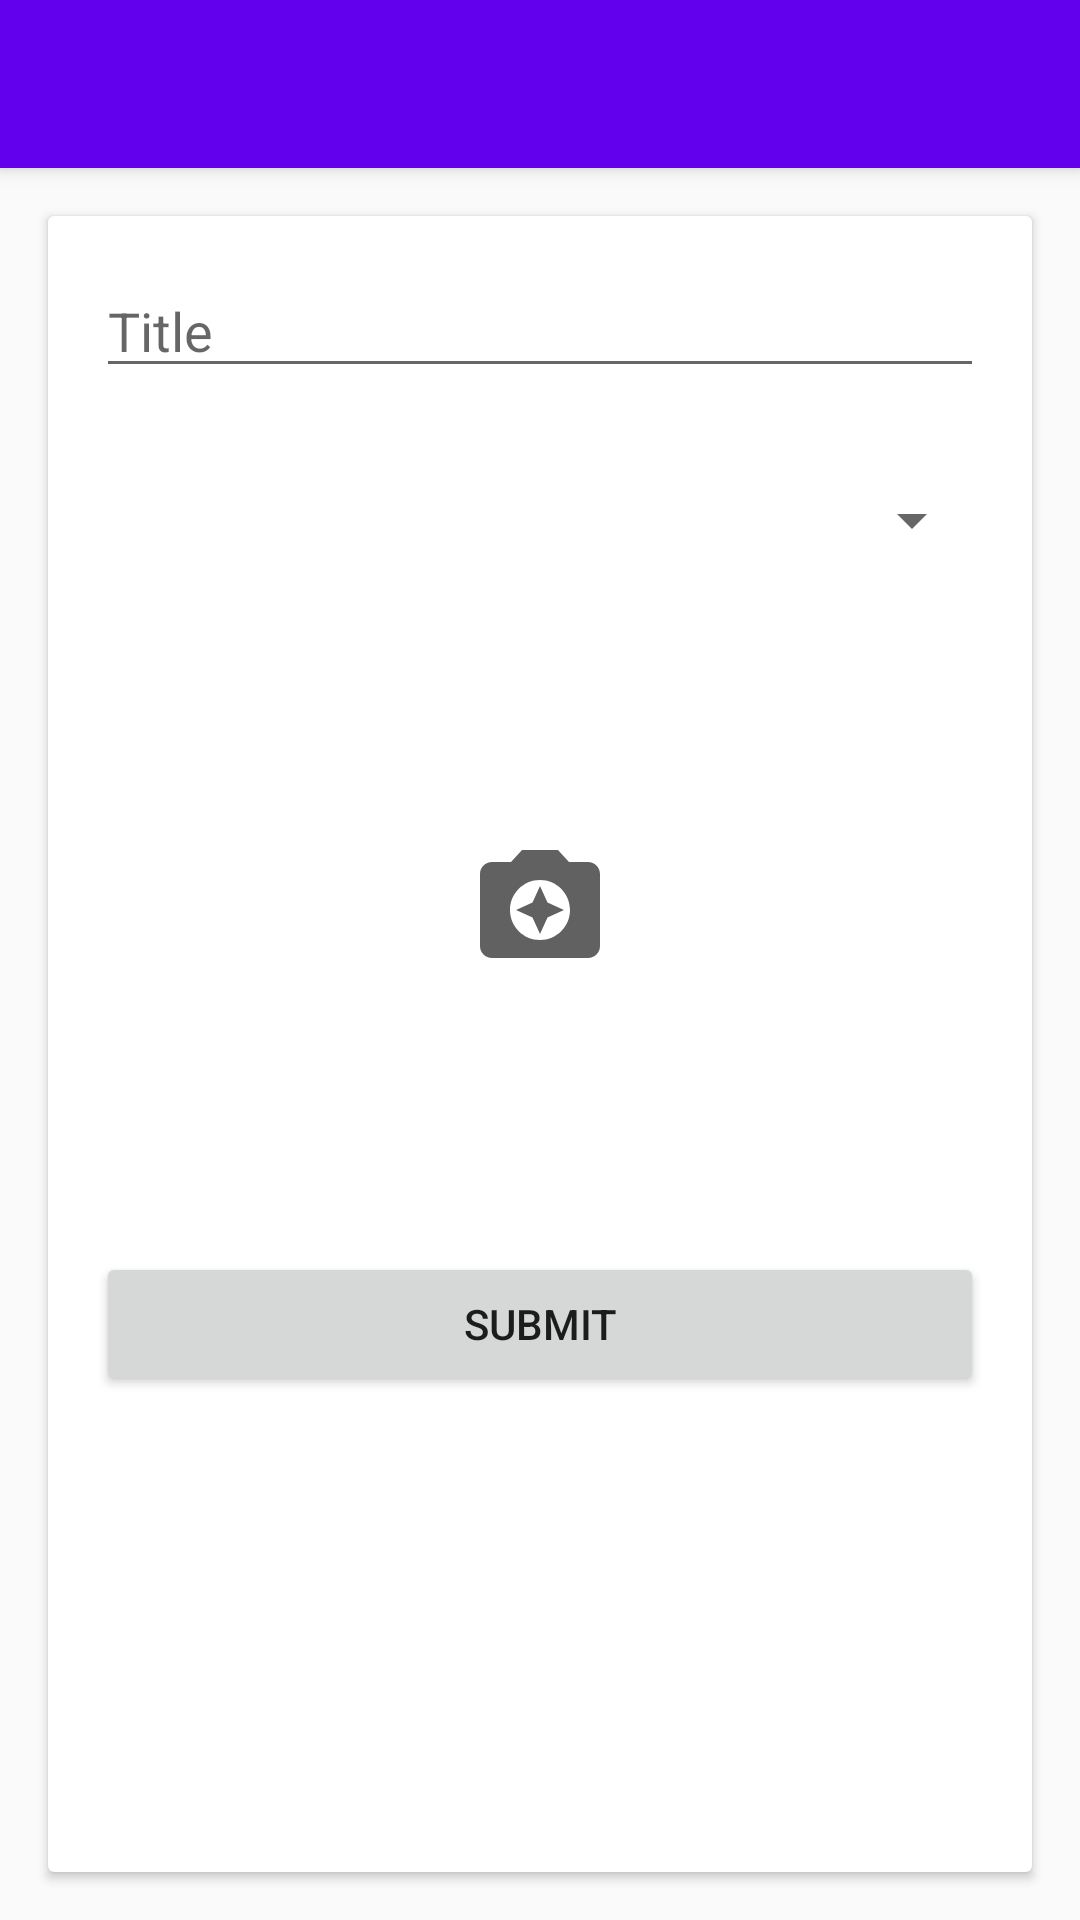

Named icons in this screenshot (1080 × 1920) and their centers, (x=x, y=y):
camera enhance: (x=540, y=904)
